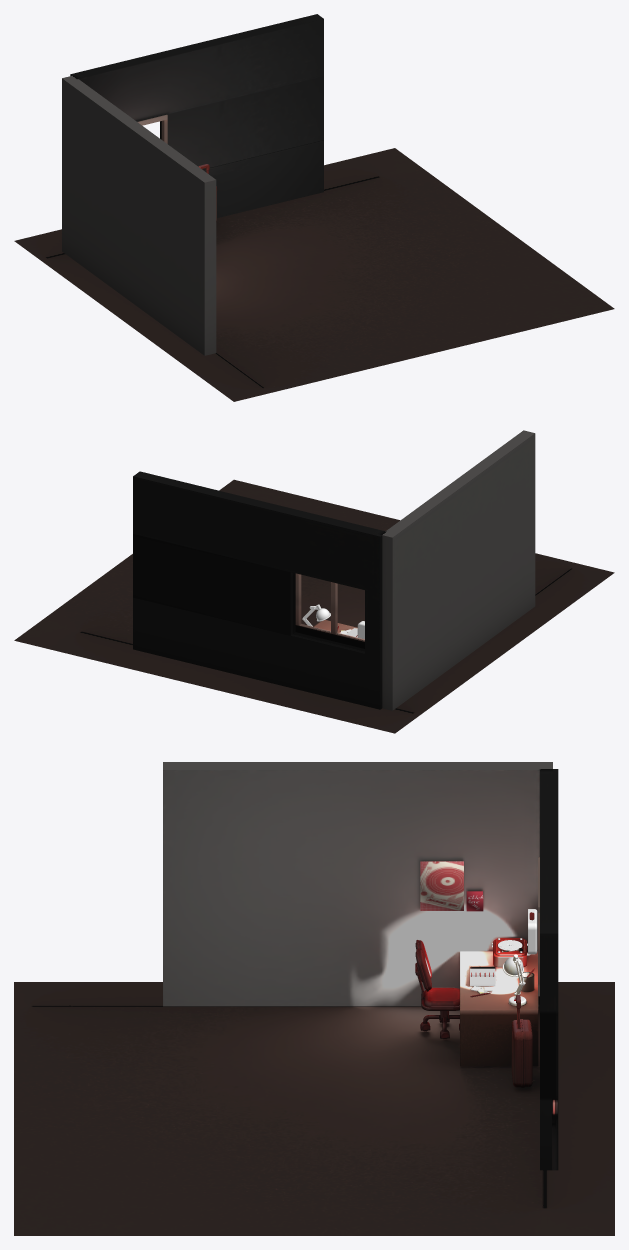
File: full_test.glb
The picture shows the model from 3 angles, top to bottom: view 1: azimuth 30°, elevation 25°; view 2: azimuth 150°, elevation 25°; view 3: azimuth 270°, elevation 25°; orthographic projection. The views are drawn at different scales.
Parts seen in each view (by area): view 1: 평면.003, 큐브.005, 큐브.004; view 2: 큐브.005, 큐브.004, 평면.003, 큐브.001; view 3: 평면.003, 큐브.004, 큐브.005, Body57, Body136, Body128, Body142.
Boxes of the visible parts, box(x1,y1,x2,y2) form: 평면.003: box(14, 148, 614, 401); 큐브.005: box(70, 14, 323, 217); 큐브.004: box(62, 75, 216, 355); 큐브.005: box(133, 471, 384, 709); 큐브.004: box(381, 430, 535, 710); 평면.003: box(14, 479, 614, 733); 큐브.001: box(295, 573, 364, 648); 평면.003: box(14, 982, 614, 1235); 큐브.004: box(163, 762, 552, 1006); 큐브.005: box(540, 769, 558, 1170); Body57: box(460, 951, 538, 1066); Body136: box(420, 861, 463, 910); Body128: box(415, 940, 459, 1039); Body142: box(511, 995, 532, 1087).
Bounding box in the file's own units: 8.16 × 3.63 × 8.16.
Materials: 28 (16 with a texture image).
